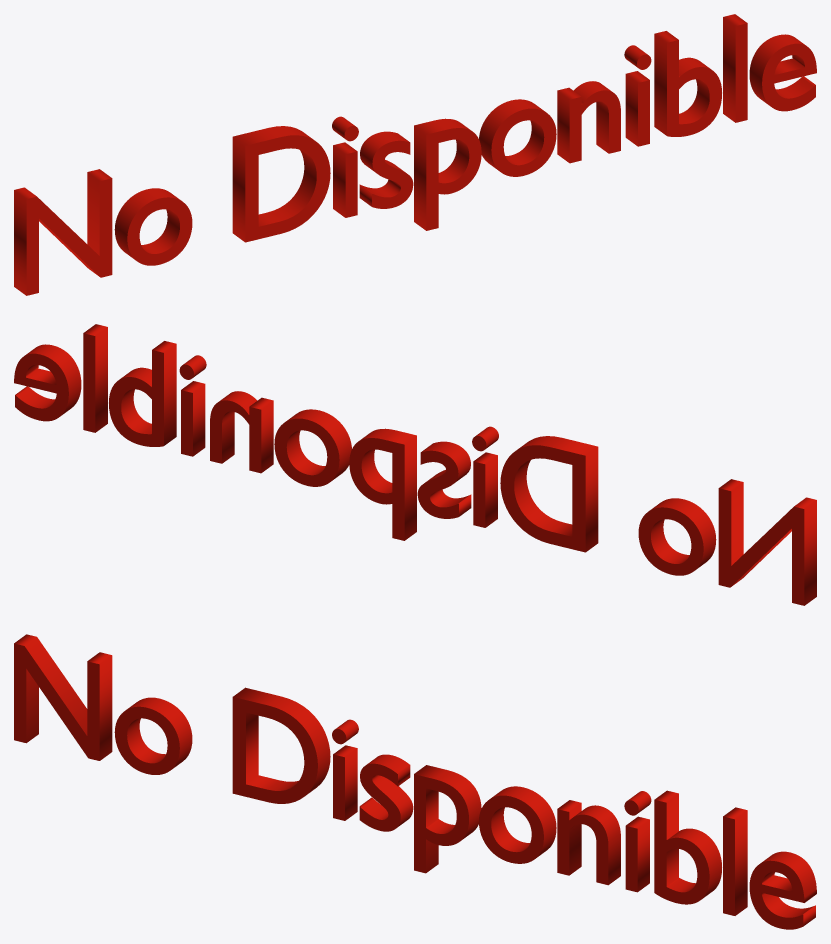
File: no-disponible.fbx
The picture shows the model from 3 angles, top to bottom: view 1: azimuth 30°, elevation 25°; view 2: azimuth 150°, elevation 25°; view 3: azimuth 330°, elevation 25°; orthographic projection.
Parts seen in each view (by area): view 1: Text; view 2: Text; view 3: Text.
Part boxes in pixels (<box>): Text: <box>14,14,816,295</box>; Text: <box>14,324,816,605</box>; Text: <box>14,634,816,929</box>.
Bounding box in the file's own units: 583 × 91.2 × 16.
